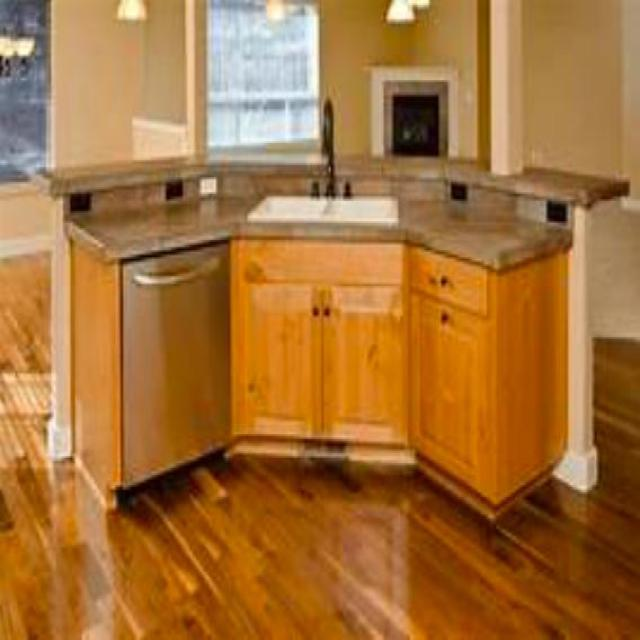dishwasher: (119, 235, 230, 488)
